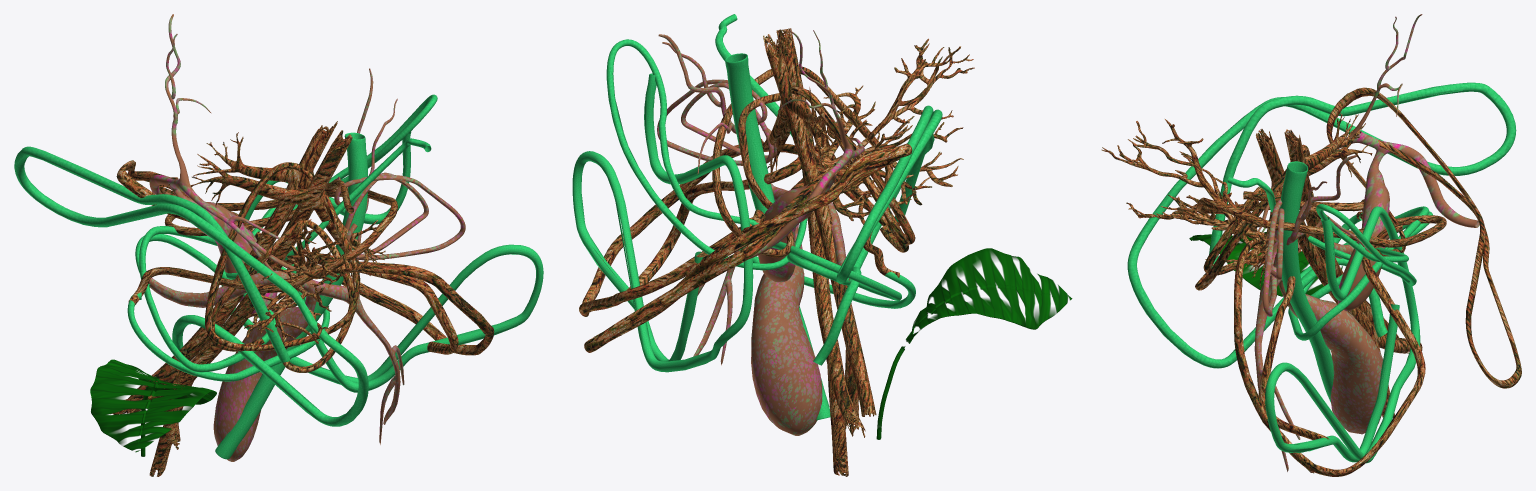
Rendered from dmtreebranches2.glb.
The picture shows the model from 3 angles, left to right: view 1: azimuth 30°, elevation 25°; view 2: azimuth 150°, elevation 25°; view 3: azimuth 270°, elevation 25°; orthographic projection. The views are drawn at different scales.
Visible parts, largest first — view 1: human_kidneys_and_bladder_1127_blood_vessels.002, jump_rope_246.027, human_liver_1128_gallbladder.006, leaf_003_mesh.001, jump_rope_246.026, jump_rope_246.028, jump_rope_246.023, jump_rope_246.030, jump_rope_246.029, human_liver_1128_gallbladder.005, coral.003, human_liver_1128_aorta.005 (+3 smaller); view 2: human_kidneys_and_bladder_1127_blood_vessels.002, human_liver_1128_gallbladder.006, jump_rope_246.026, leaf_003_mesh.001, jump_rope_246.024, coral.003, jump_rope_246.023, jump_rope_246.021, jump_rope_246.027, jump_rope_246.029, human_liver_1128_gallbladder.005, human_liver_1128_aorta.005 (+3 smaller); view 3: jump_rope_246.027, human_liver_1128_gallbladder.006, jump_rope_246.026, jump_rope_246.023, human_kidneys_and_bladder_1127_blood_vessels.002, jump_rope_246.024, human_liver_1128_gallbladder.005, coral.003, human_liver_1128_aorta.005, jump_rope_246.029, jump_rope_246.021, jump_rope_246.030 (+3 smaller).
Boxes of the visible parts, x1,y1,x2,y2 form: human_kidneys_and_bladder_1127_blood_vessels.002: (110,121,388,476); jump_rope_246.027: (14,146,368,426); human_liver_1128_gallbladder.006: (148,68,404,461); leaf_003_mesh.001: (90,359,216,456); jump_rope_246.026: (221,132,543,392); jump_rope_246.028: (205,162,359,372); jump_rope_246.023: (229,210,494,355); jump_rope_246.030: (127,226,329,381); jump_rope_246.029: (128,180,397,304); human_liver_1128_gallbladder.005: (149,14,298,317); coral.003: (243,219,373,343); human_liver_1128_aorta.005: (215,132,367,459); human_kidneys_and_bladder_1127_blood_vessels.002: (757,28,876,476); human_liver_1128_gallbladder.006: (658,34,850,435); jump_rope_246.026: (572,73,753,372); leaf_003_mesh.001: (876,248,1072,439); jump_rope_246.024: (584,143,912,352); coral.003: (790,38,974,224); jump_rope_246.023: (579,142,801,316); jump_rope_246.021: (606,14,807,270); jump_rope_246.027: (813,105,942,365); jump_rope_246.029: (712,66,899,277); human_liver_1128_gallbladder.005: (748,30,864,282); human_liver_1128_aorta.005: (725,53,830,420); jump_rope_246.027: (1127,82,1516,368); human_liver_1128_gallbladder.006: (1254,155,1389,473); jump_rope_246.026: (1265,206,1420,463); jump_rope_246.023: (1234,224,1425,476); human_kidneys_and_bladder_1127_blood_vessels.002: (1245,113,1422,417); jump_rope_246.024: (1326,87,1521,388); human_liver_1128_gallbladder.005: (1258,14,1479,311); coral.003: (1101,119,1301,271); human_liver_1128_aorta.005: (1277,161,1333,403); jump_rope_246.029: (1197,191,1446,247); jump_rope_246.021: (1227,177,1416,285); jump_rope_246.030: (1288,206,1432,340).
Size of the model in its own units: 1.02 by 0.9534 by 0.866.
Materials: 6 (6 with a texture image).
